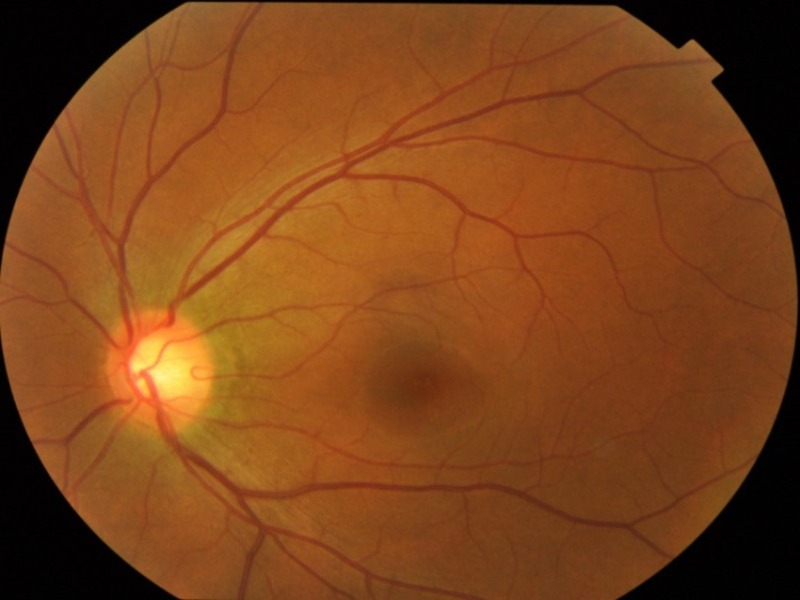Optic Cup: (126, 338, 186, 396)
Optic Disc: (108, 309, 213, 430)
